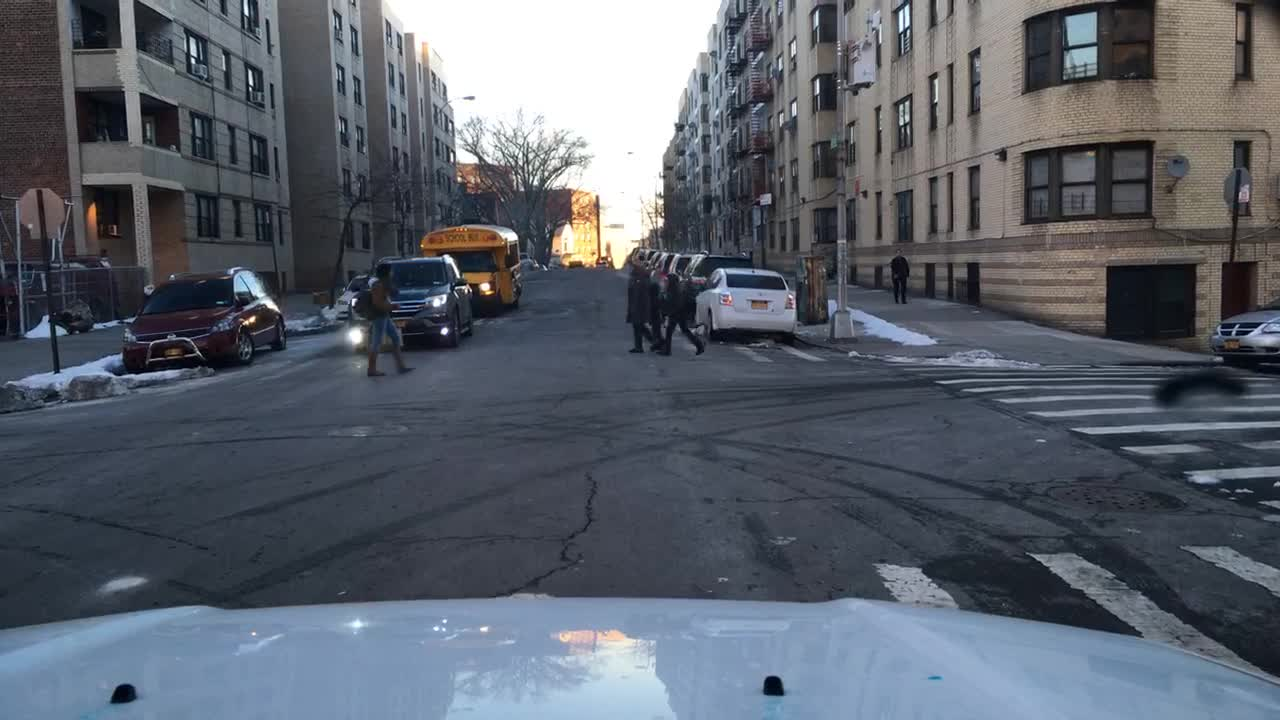bus: (419, 223, 525, 316)
car: (122, 264, 287, 375), (348, 255, 473, 348), (696, 265, 798, 344), (1210, 295, 1278, 371), (684, 252, 756, 291), (336, 271, 366, 319), (667, 249, 696, 274), (658, 249, 679, 270), (519, 251, 539, 268), (648, 248, 666, 264), (644, 245, 658, 264), (627, 248, 645, 261), (596, 258, 612, 268), (569, 257, 584, 267), (537, 261, 549, 270)
person: (363, 262, 417, 377), (624, 253, 649, 351), (644, 257, 667, 353), (886, 247, 910, 304)
traffic sign: (22, 185, 64, 241), (1222, 166, 1252, 205), (763, 192, 772, 205)
